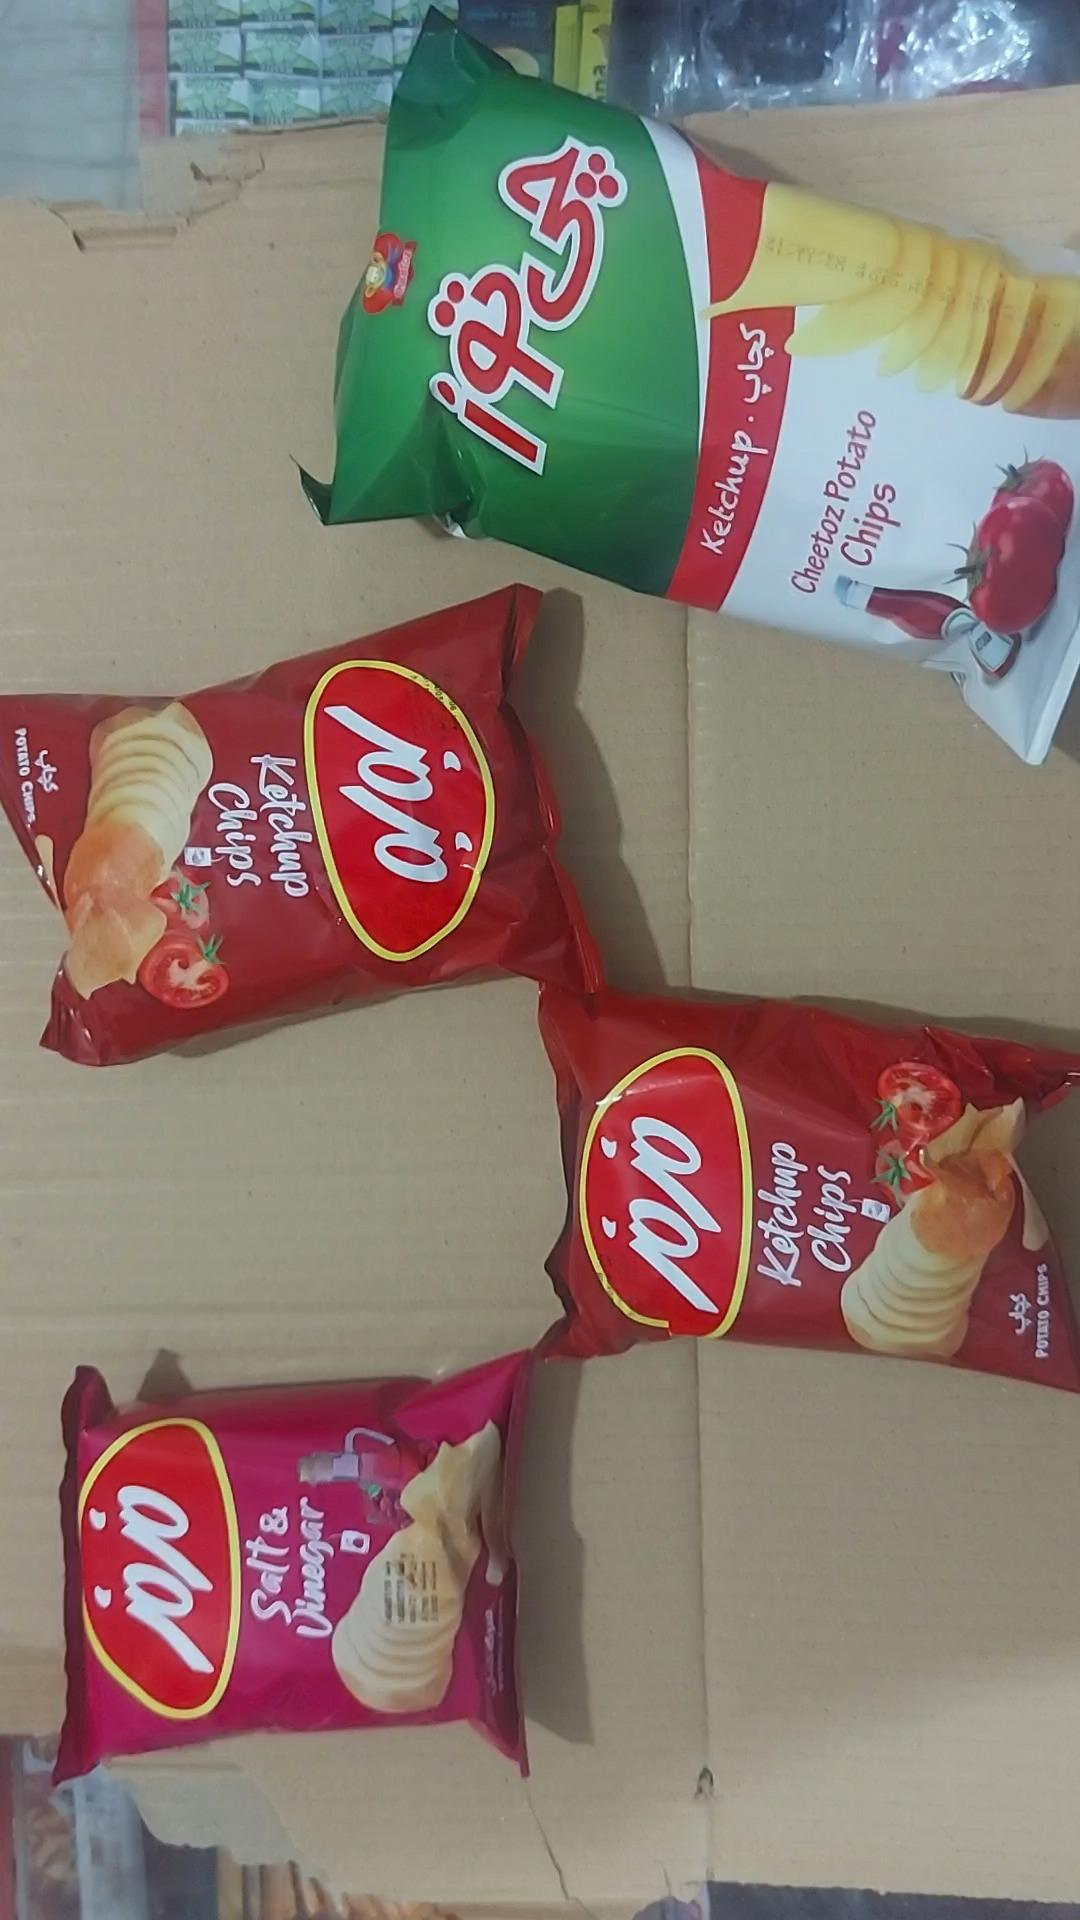Cheetoz ketchup chips: (306, 9, 1079, 770)
Maz Maz ketchup chips: (0, 580, 603, 1065), (537, 986, 1079, 1396)
Maz Maz vinegar chips: (51, 1350, 533, 1788)
